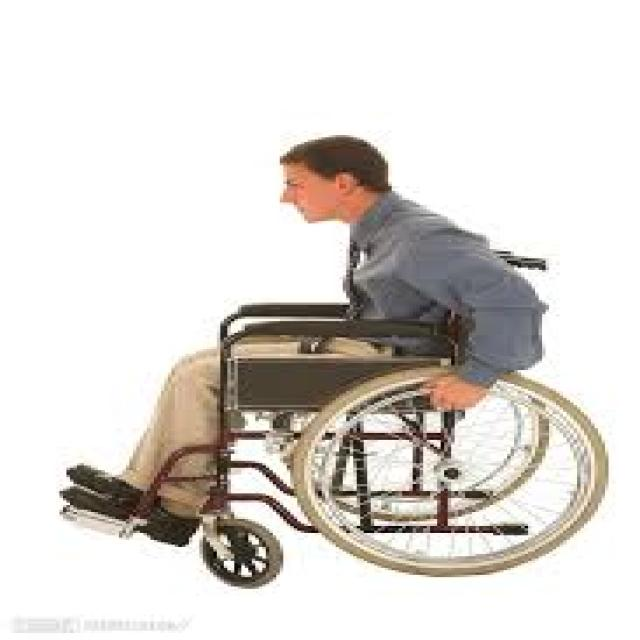wheelchairs: (52, 246, 612, 588)
